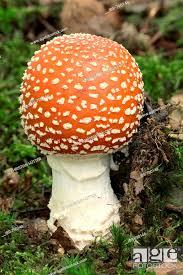Amanita muscaria: (19, 28, 151, 213)
